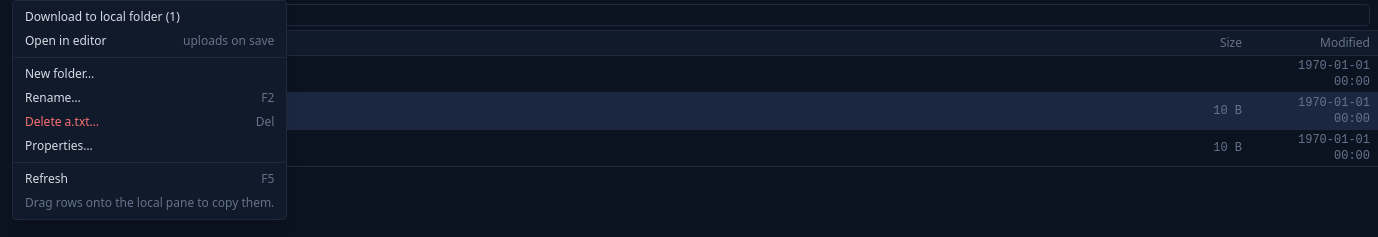
Scenario: the context menu › offers what the remote side can do to a file
Click the menu item "Open in editor uploads on save". click: click(66, 40)
box: [13,29,286,53]
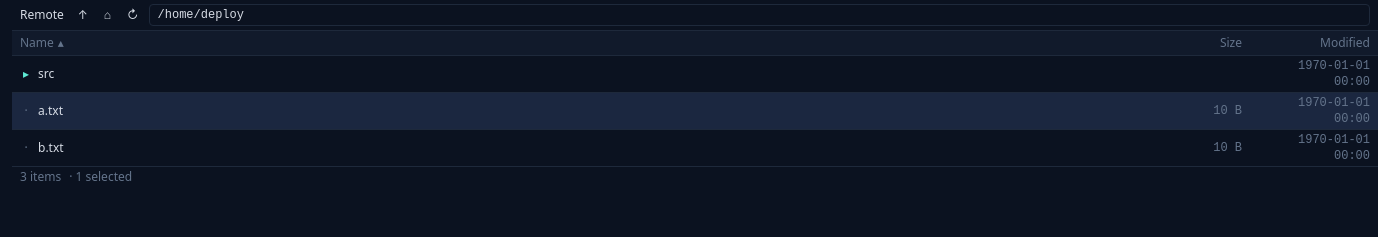
Result: the menu is gone
